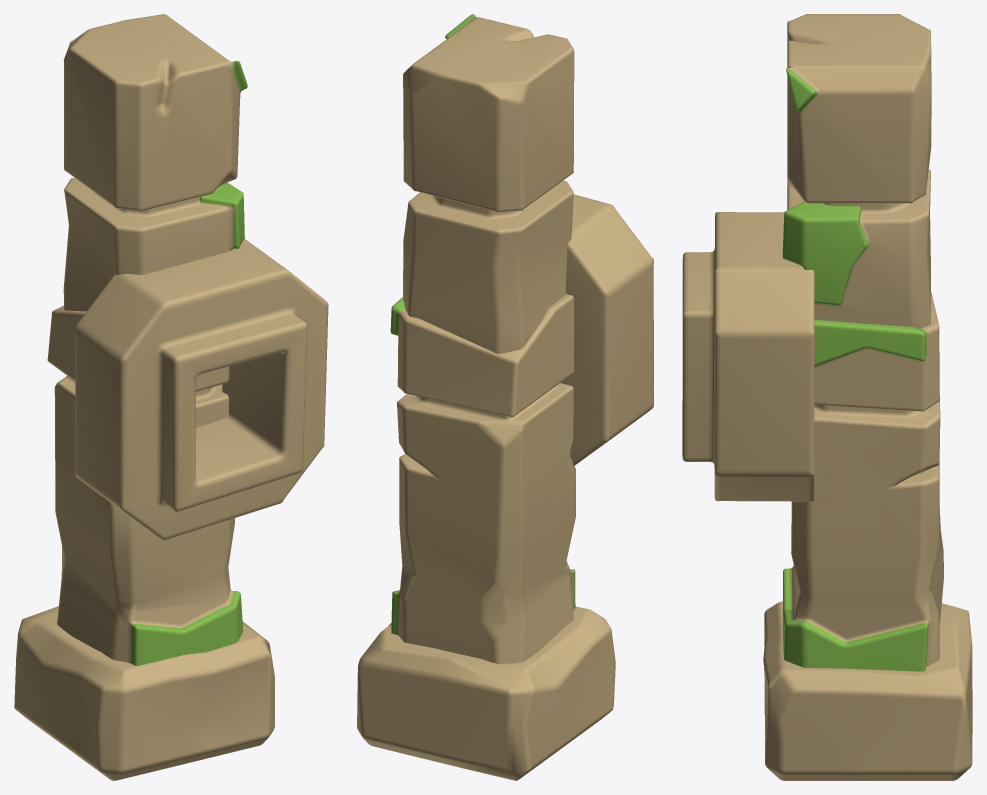
The model's file is Tile_Arrow_Dispenser.fbx.
3 renders of one model, left to right at view 1: azimuth 30°, elevation 25°; view 2: azimuth 150°, elevation 25°; view 3: azimuth 270°, elevation 25°, orthographic. The views are drawn at different scales.
Visible parts, largest first — view 1: Cube.028; view 2: Cube.028; view 3: Cube.028.
Boxes of the visible parts, x1,y1,x2,y2 form: Cube.028: [14, 14, 328, 780]; Cube.028: [357, 14, 653, 780]; Cube.028: [682, 14, 972, 780].
Size of the model in its own units: 58.91 by 186 by 69.8.
1 material, 1 textured.
